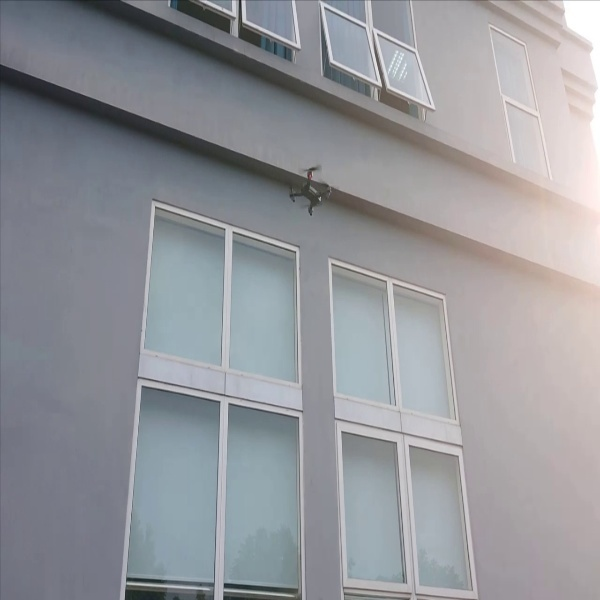drone: (282, 158, 339, 216)
